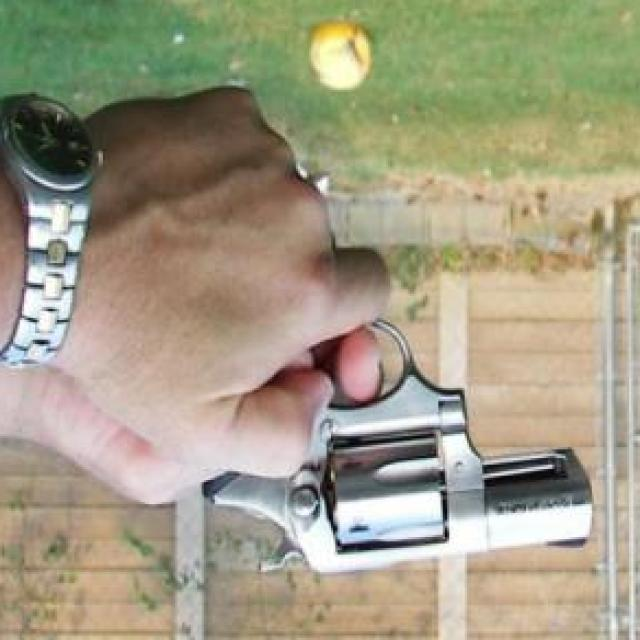pistol: (201, 317, 596, 587)
